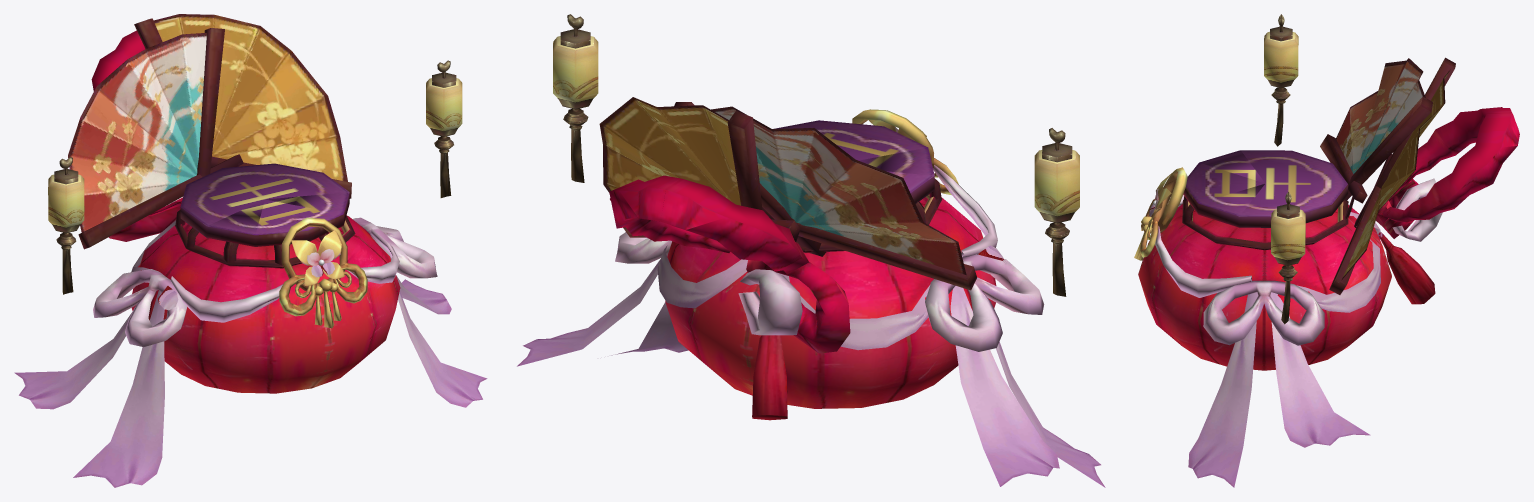
Rendered from denglong.fbx.
3 renders of one model, left to right at view 1: azimuth 30°, elevation 25°; view 2: azimuth 150°, elevation 25°; view 3: azimuth 270°, elevation 25°, orthographic. The views are drawn at different scales.
Parts seen in each view (by area): view 1: mount_017_0; view 2: mount_017_0; view 3: mount_017_0.
Part boxes in pixels (bbox=[...]): mount_017_0: bbox=[14, 14, 487, 487]; mount_017_0: bbox=[517, 14, 1105, 487]; mount_017_0: bbox=[1134, 14, 1519, 487].
Bounding box in the file's own units: 1.86 × 1.42 × 1.54.
